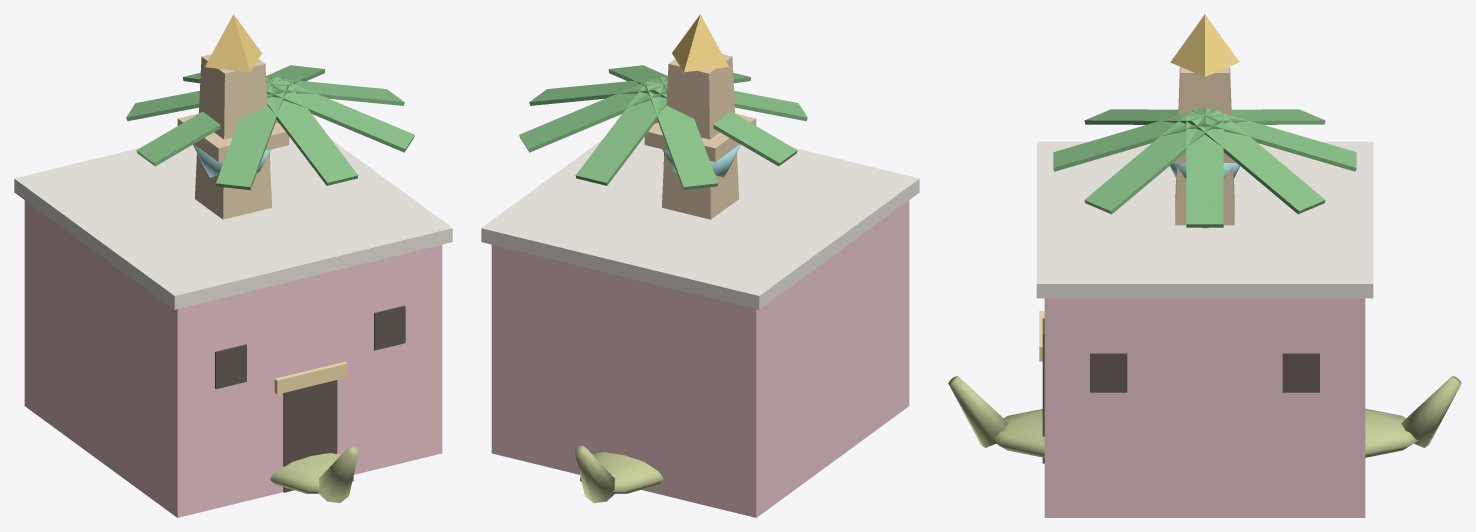
Rendered from egypt_props.fbx.
The picture shows the model from 3 angles, left to right: view 1: azimuth 30°, elevation 25°; view 2: azimuth 150°, elevation 25°; view 3: azimuth 270°, elevation 25°; orthographic projection. The views are drawn at different scales.
Visible parts, largest first — view 1: Walls__PastelPink, Parapet__Plaster, Shaft__Sandstone, Door__Dark, Frond__Palm.006, Frond__Palm.005, Frond__Palm.007, Frond__Palm.004, Pyramidion__Gold, Hull__Reed, Frond__Palm, Prow__Reed (+7 smaller); view 2: Walls__PastelPink, Parapet__Plaster, Shaft__Sandstone, Frond__Palm.002, Frond__Palm.003, Frond__Palm.001, Frond__Palm.004, Pyramidion__Gold, Hull__Reed, Frond__Palm, Prow__Reed.001, Frond__Palm.005 (+3 smaller); view 3: Walls__PastelPink, Parapet__Plaster, Frond__Palm, Frond__Palm.007, Frond__Palm.001, Hull__Reed, Shaft__Sandstone, Frond__Palm.006, Frond__Palm.002, Pyramidion__Gold, Prow__Reed, Prow__Reed.001 (+4 smaller).
Boxes of the visible parts, x1,y1,x2,y2 form: Walls__PastelPink: [24, 200, 442, 517]; Parapet__Plaster: [14, 137, 452, 309]; Shaft__Sandstone: [195, 54, 271, 219]; Door__Dark: [283, 380, 337, 492]; Frond__Palm.006: [266, 79, 358, 185]; Frond__Palm.005: [216, 82, 288, 190]; Frond__Palm.007: [266, 76, 414, 152]; Frond__Palm.004: [136, 80, 279, 166]; Pyramidion__Gold: [205, 14, 261, 72]; Hull__Reed: [270, 453, 354, 493]; Frond__Palm: [266, 77, 404, 105]; Prow__Reed: [318, 445, 358, 502]; Walls__PastelPink: [491, 200, 909, 517]; Parapet__Plaster: [481, 137, 919, 309]; Shaft__Sandstone: [662, 54, 738, 219]; Frond__Palm.002: [575, 79, 667, 185]; Frond__Palm.003: [646, 82, 717, 190]; Frond__Palm.001: [519, 76, 667, 152]; Frond__Palm.004: [653, 80, 797, 166]; Pyramidion__Gold: [672, 14, 728, 72]; Hull__Reed: [579, 452, 663, 493]; Frond__Palm: [529, 77, 667, 105]; Prow__Reed.001: [575, 445, 615, 502]; Frond__Palm.005: [658, 76, 807, 121]; Walls__PastelPink: [1044, 298, 1365, 517]; Parapet__Plaster: [1036, 141, 1373, 298]; Frond__Palm: [1186, 115, 1223, 227]; Frond__Palm.007: [1084, 109, 1219, 214]; Frond__Palm.001: [1191, 109, 1325, 214]; Hull__Reed: [991, 408, 1418, 457]; Shaft__Sandstone: [1175, 66, 1234, 225]; Frond__Palm.006: [1053, 107, 1206, 171]; Frond__Palm.002: [1203, 107, 1356, 171]; Pyramidion__Gold: [1170, 14, 1239, 76]; Prow__Reed: [948, 376, 1008, 447]; Prow__Reed.001: [1401, 376, 1461, 447].
Bounding box in the file's own units: 6.83 × 9.2 × 9.6.
